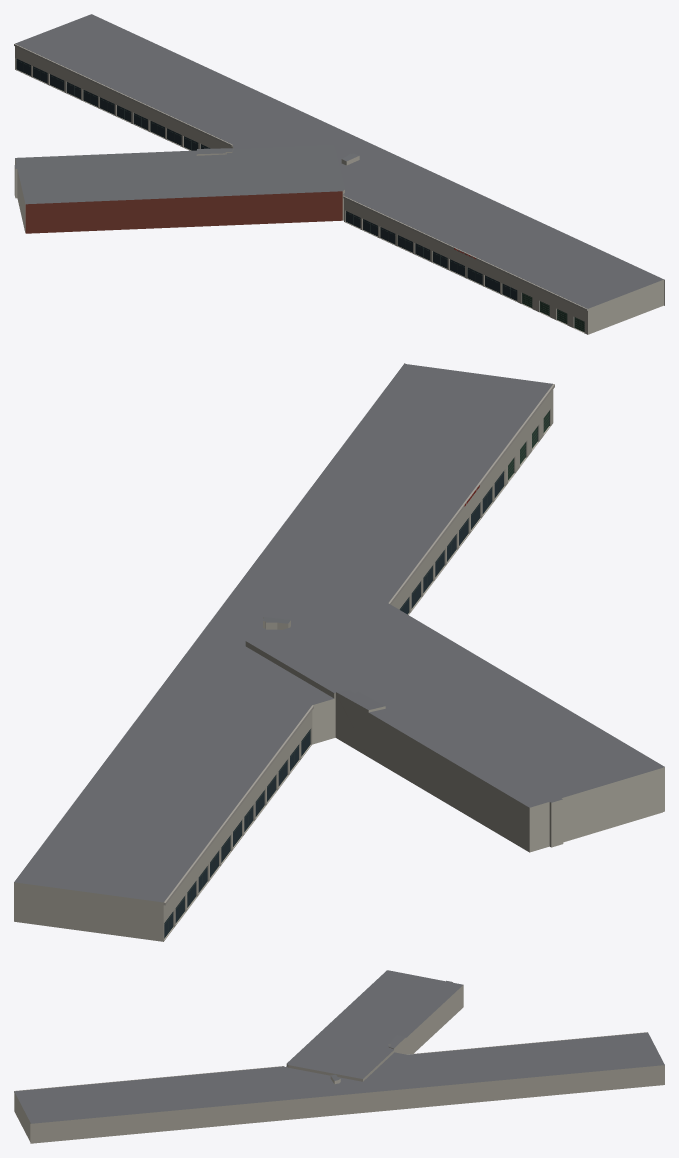
Rendered from recipe-large-cgm-114-202381.glb.
3 views of the same model, one above another, from view 1: azimuth 30°, elevation 25°; view 2: azimuth 150°, elevation 25°; view 3: azimuth 270°, elevation 25° (orthographic). The views are drawn at different scales.
Visible parts, largest first — view 1: cgm-114-202381; view 2: cgm-114-202381; view 3: cgm-114-202381.
Boxes of the visible parts, <box> form: cgm-114-202381: <box>14,14,664,334</box>; cgm-114-202381: <box>14,363,664,941</box>; cgm-114-202381: <box>14,970,664,1143</box>.
Bounding box in the file's own units: 105 × 7.75 × 192.
